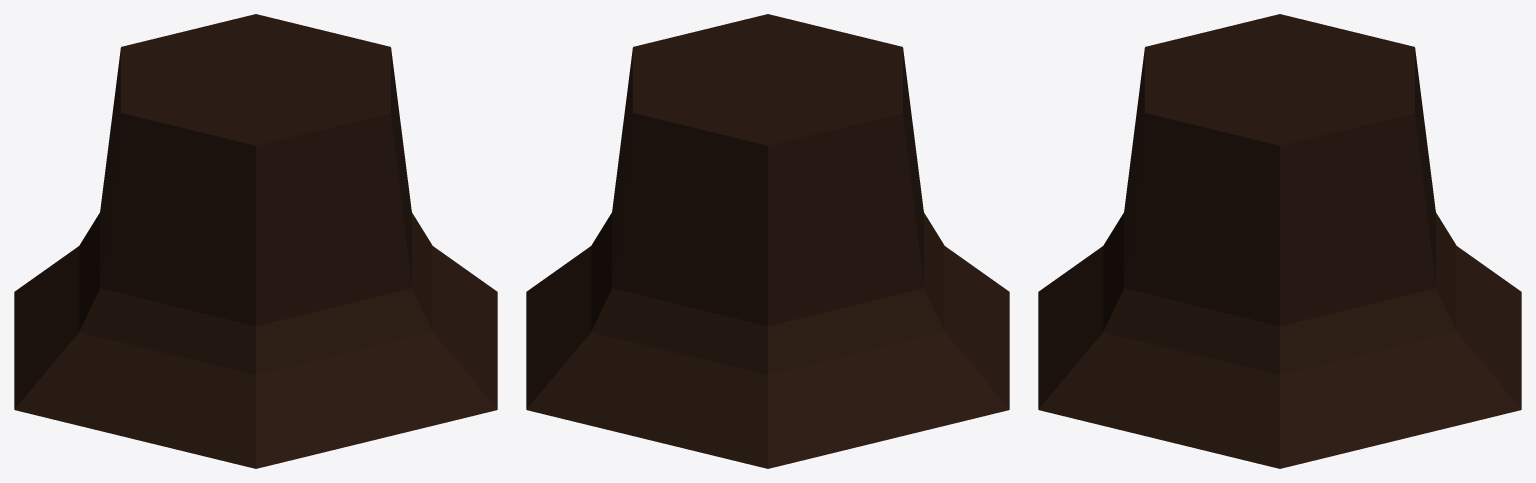
File: kok_02.FBX
3 views of the same model, side by side, from view 1: azimuth 30°, elevation 25°; view 2: azimuth 150°, elevation 25°; view 3: azimuth 270°, elevation 25° (orthographic).
Parts seen in each view (by area): view 1: Cylinder003; view 2: Cylinder003; view 3: Cylinder003.
Part boxes in pixels (box(x1,y1,x2,y2)): Cylinder003: box(14, 14, 497, 468); Cylinder003: box(526, 14, 1009, 468); Cylinder003: box(1038, 14, 1521, 468).
Size of the model in its own units: 50.66 by 27.13 by 43.87.
